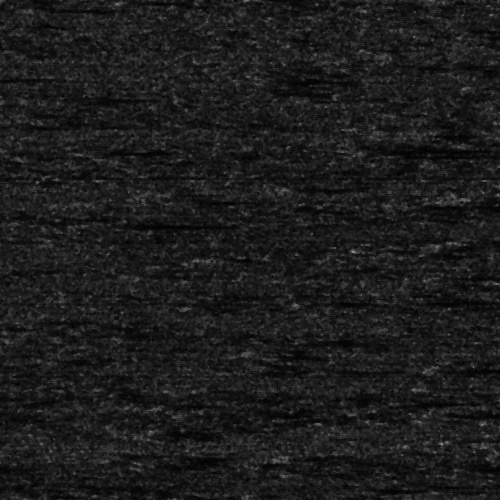object: (424, 192, 497, 203), (423, 362, 434, 373)
shadow: (429, 362, 500, 373), (460, 192, 500, 203)
